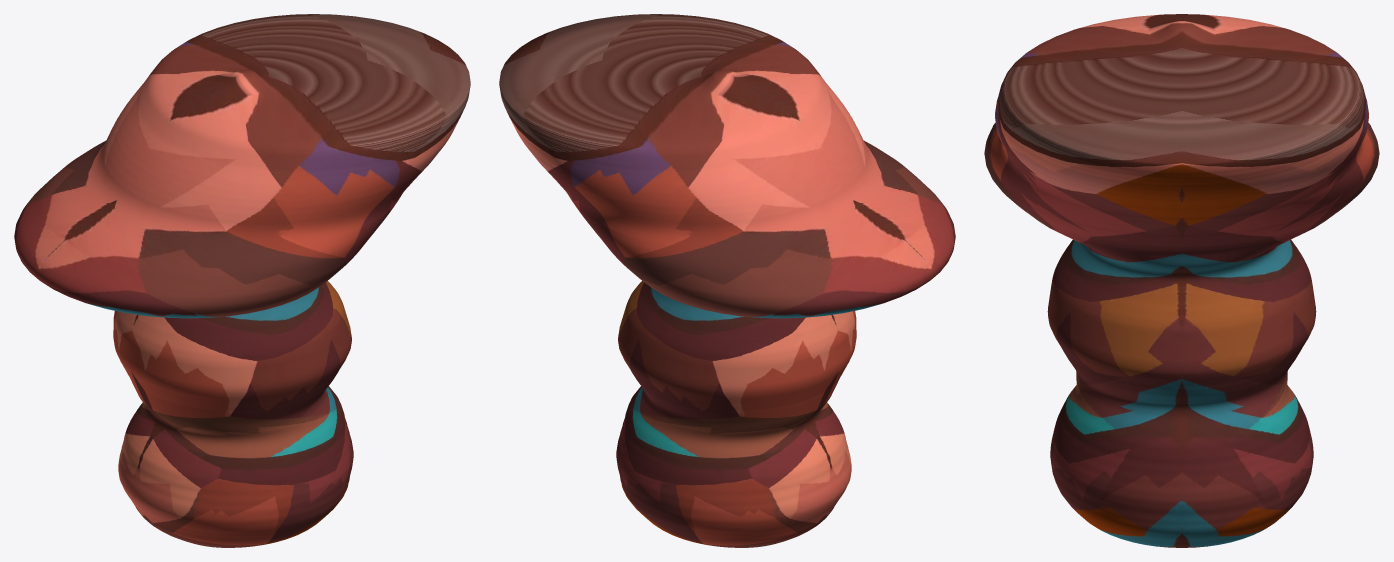
The model's file is hoodoo.glb.
3 renders of one model, left to right at view 1: azimuth 30°, elevation 25°; view 2: azimuth 150°, elevation 25°; view 3: azimuth 270°, elevation 25°, orthographic. The views are drawn at different scales.
Visible parts, largest first — view 1: hoodoo; view 2: hoodoo; view 3: hoodoo.
Part boxes in pixels (x1,y1,x2,y2): hoodoo: (14, 14, 470, 547); hoodoo: (499, 14, 955, 547); hoodoo: (984, 14, 1379, 547).
Bounding box in the file's own units: 0.9945 × 1.06 × 0.7342.
Materials: 1 (1 with a texture image).
